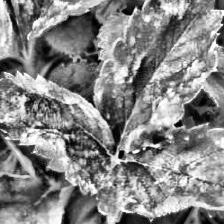Powdery Mildew Leaf: (91, 0, 224, 150), (0, 69, 116, 196), (94, 122, 224, 224), (0, 0, 119, 52)
